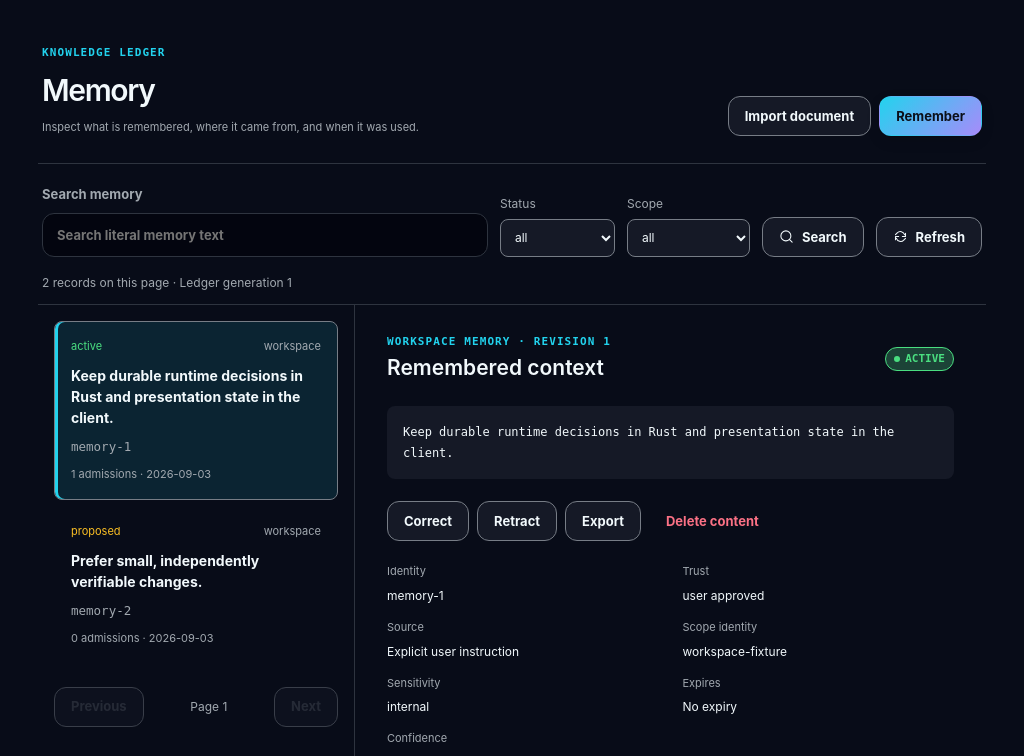
Scenario: Memory workspace › reviews an imported proposal before issuing a distinct exact approval
Click the button "proposed workspace" at (196, 586), box [54,506,338,665]
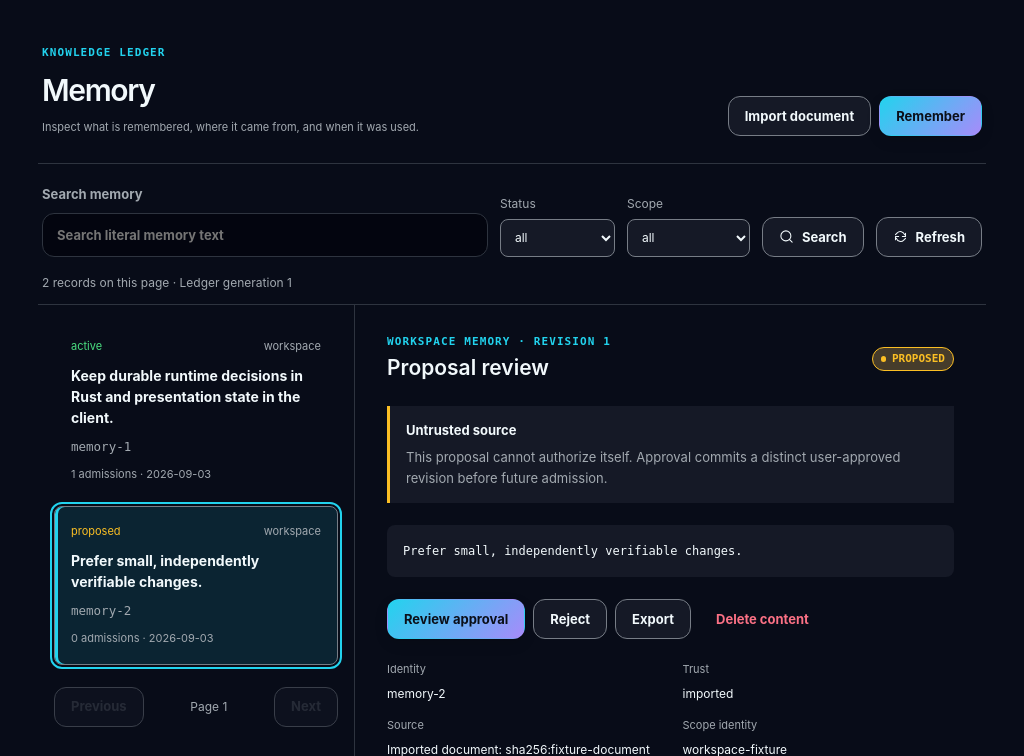
Expected: the text "Untrusted source" is shown, [406,422,516,438]
Expected: the text "cannot authorize itself" is shown, [406,449,900,486]
Click the button "Review approval" at (456, 619), box [387,599,525,639]
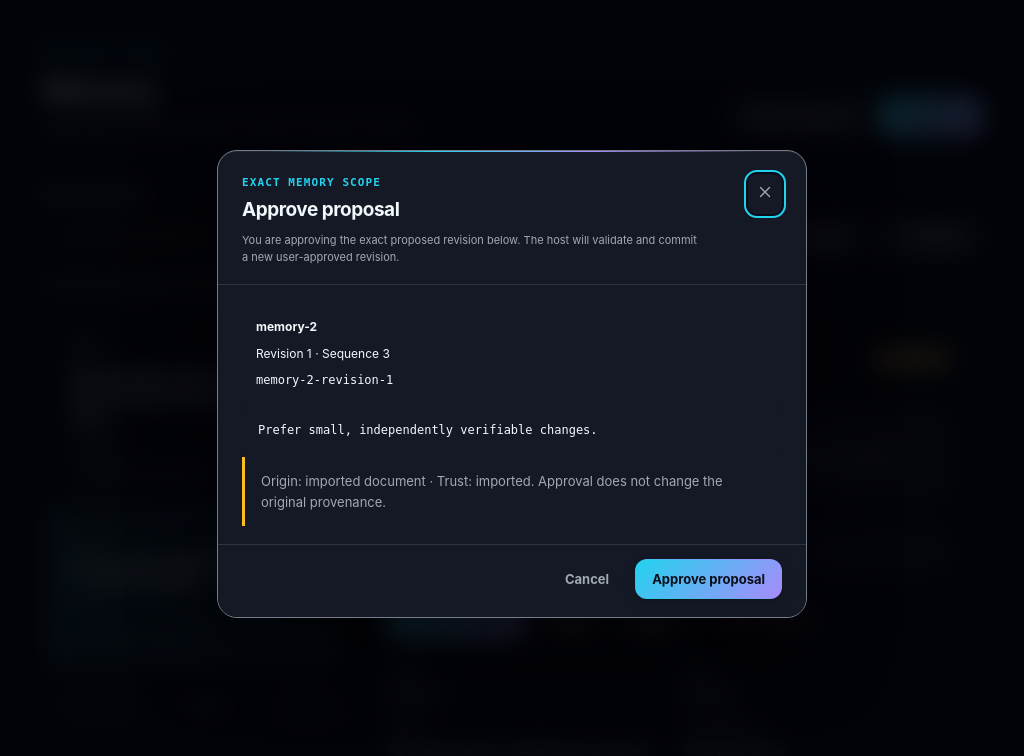
Expected: the text "memory-2-revision-1" is shown, [256,373,393,387]
Click the button "Approve proposal" at (709, 579), box [635,559,782,599]
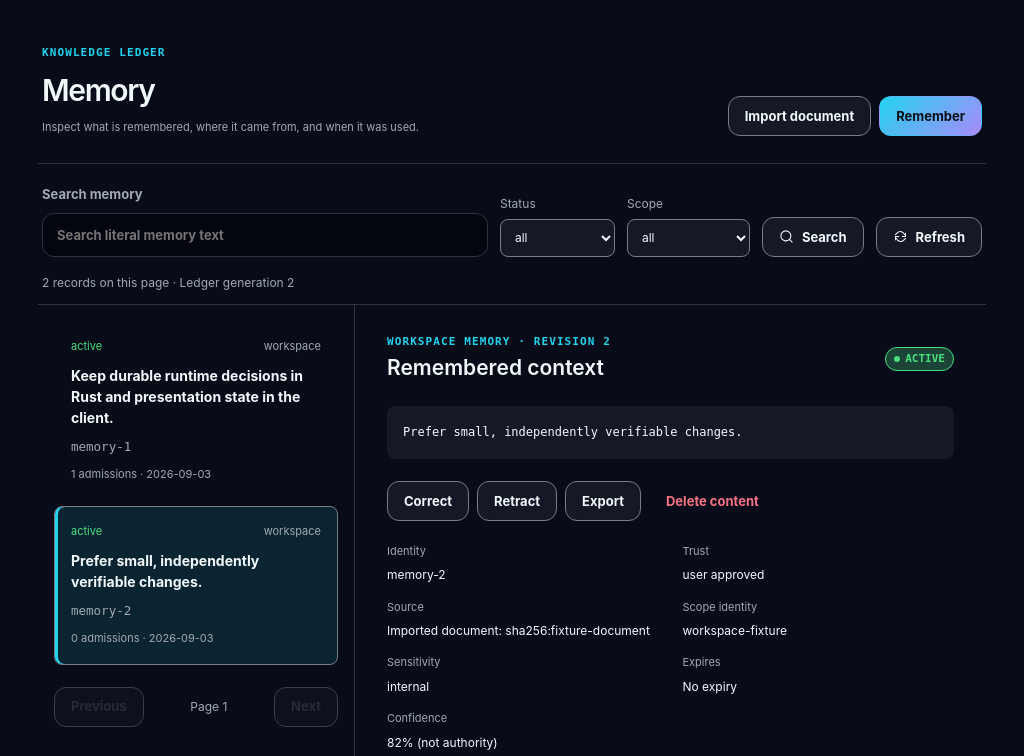
Expected: the dialog is gone
Expected: the text "workspace memory · Revision 2" is shown, [387,333,611,351]
Expected: the text "Untrusted source" is gone
